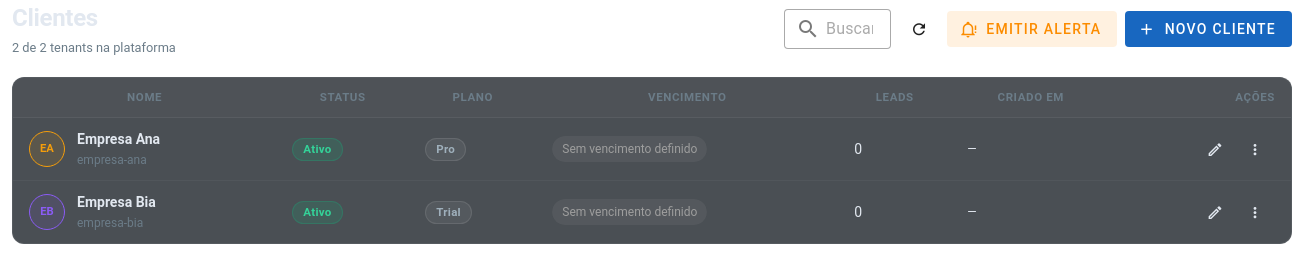
Test: ClientsView › filtra clientes pela busca
The width and height of the screenshot is (1304, 261).
Type "ana" into the field with placeholder "Buscar cliente..." at (850, 29), box [820, 9, 879, 49]
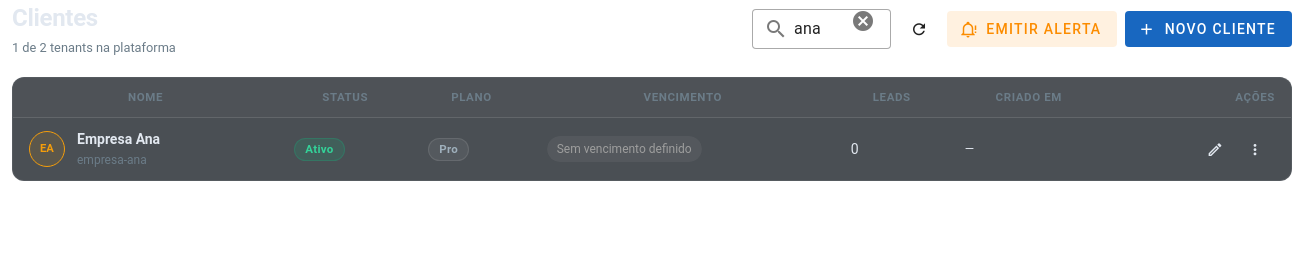
Check: the text "Empresa Ana" is shown, box [77, 130, 160, 150]
Check: the text "Empresa Bia" is gone
